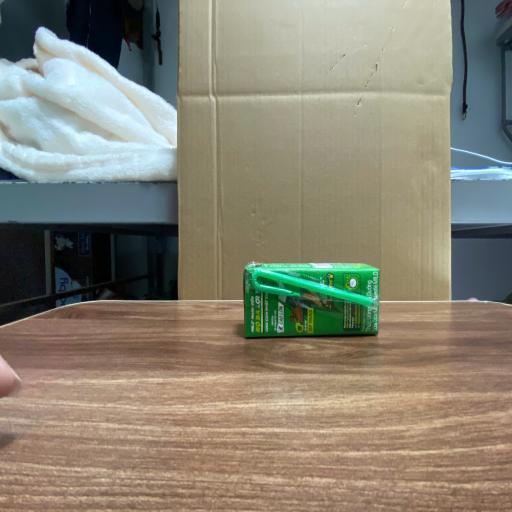milo: (242, 262, 380, 335)
